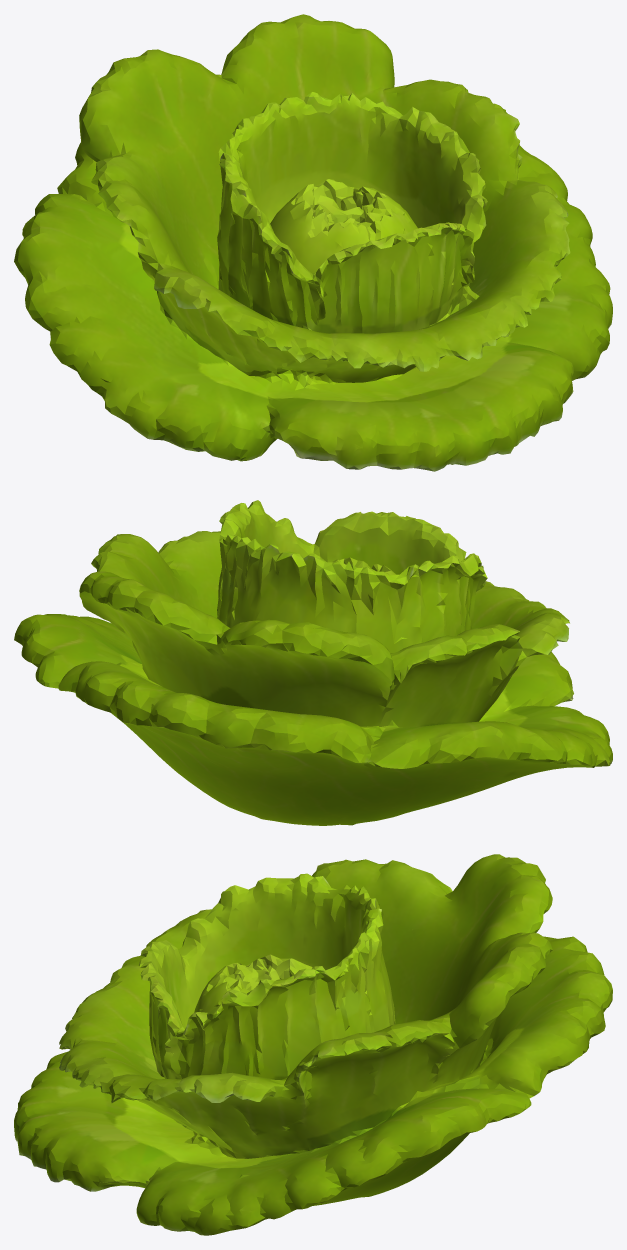
Rendered from lettuce_plant.glb.
The picture shows the model from 3 angles, top to bottom: view 1: azimuth 30°, elevation 25°; view 2: azimuth 150°, elevation 25°; view 3: azimuth 270°, elevation 25°; orthographic projection.
Parts seen in each view (by area): view 1: Lettuce; view 2: Lettuce; view 3: Lettuce.
Part boxes in pixels (x1=…): Lettuce: x1=14, y1=14, x2=612, y2=471; Lettuce: x1=14, y1=500, x2=612, y2=825; Lettuce: x1=14, y1=854, x2=612, y2=1235.
Size of the model in its own units: 1.9 by 0.8754 by 1.88.
1 material, 1 textured.
